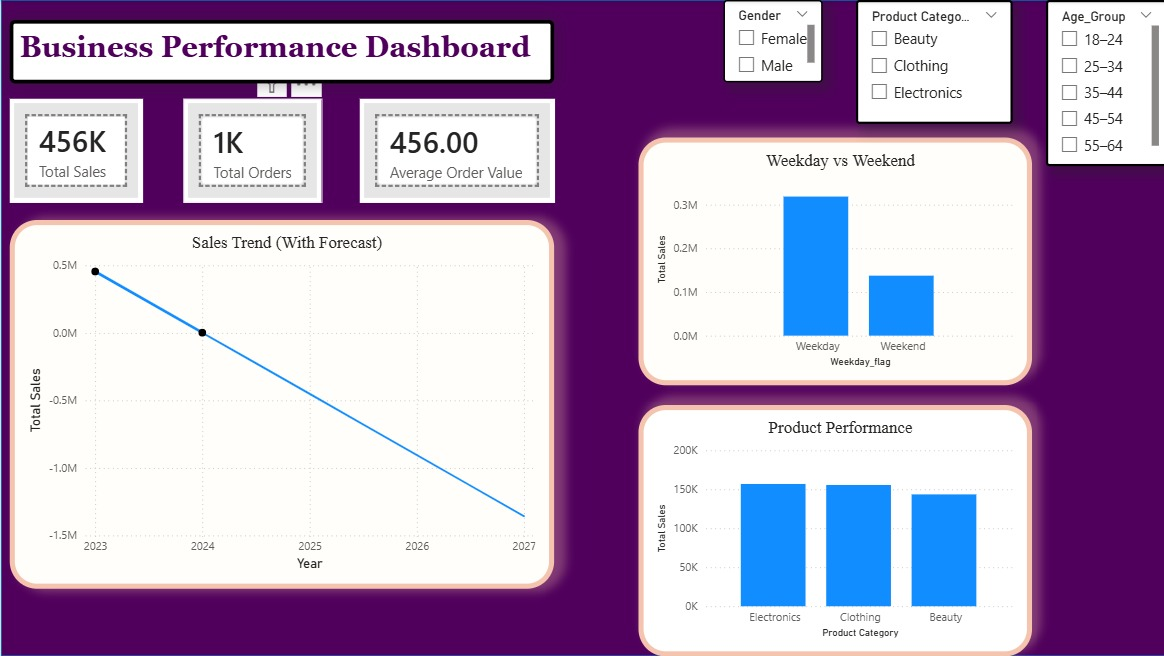

The page's visual inventory and layout, read from the dashboard file:
{"tool":"powerbi","page":{"name":"Business Performance dashboard","canvas":[1280,720],"ordinal":0},"visuals":[{"type":"shape","box":[0,0,1280.3,720.4],"z":0},{"type":"cardVisual","fields":{"Data":["Retail Sales.Total Sales"]},"box":[10.2,108.9,146.4,114],"z":1000},{"type":"cardVisual","fields":{"Data":["Retail Sales.Total Orders"]},"box":[200.9,108.9,151.5,114],"z":2000},{"type":"cardVisual","fields":{"Data":["Retail Sales.Average Order Value"]},"box":[393.2,108.9,214.5,114],"z":3000},{"type":"lineChart","title":"Sales Trend (With Forecast)","fields":{"Y":["Retail Sales.Total Sales"],"Category":["Retail Sales.Date.Variation.Date Hierarchy.Year","Retail Sales.Date.Variation.Date Hierarchy.Quarter","Retail Sales.Date.Variation.Date Hierarchy.Month"]},"box":[10.2,241.7,597.4,405.1],"z":4000},{"type":"clusteredColumnChart","title":"Product Performance","fields":{"Category":["Retail Sales.Product Category"],"Y":["Retail Sales.Total Sales"]},"box":[699.6,444.3,432.3,275.7],"z":5000},{"type":"clusteredColumnChart","title":"Weekday vs Weekend","fields":{"Category":["Retail Sales.Weekday_flag"],"Y":["Retail Sales.Total Sales"]},"box":[699.6,151.5,432.3,272.3],"z":6000},{"type":"slicer","fields":{"Values":["Retail Sales.Age_Group"]},"box":[1146.9,0,133.1,182.5],"z":7000},{"type":"slicer","fields":{"Values":["Retail Sales.Gender"]},"box":[793.2,0,108.9,90.2],"z":8000},{"type":"slicer","fields":{"Values":["Retail Sales.Product Category"]},"box":[938.7,0,171.9,136.2],"z":9000},{"type":"textbox","box":[10.2,22.1,597.4,69.8],"z":10000}]}

Visuals, with their boxes in screenshot pixels (x1, y1, x2, y2), scaled from the page's 1280x720 canvas onto the 1164x656 screenshot:
shape: 0 0 1163 655
cardVisual - Retail Sales.Total Sales: 9 99 142 203
cardVisual - Retail Sales.Total Orders: 183 99 320 203
cardVisual - Retail Sales.Average Order Value: 358 99 553 203
"Sales Trend (With Forecast)" lineChart: 9 220 553 589
"Product Performance" clusteredColumnChart: 636 405 1029 655
"Weekday vs Weekend" clusteredColumnChart: 636 138 1029 386
slicer - Retail Sales.Age_Group: 1043 0 1163 166
slicer - Retail Sales.Gender: 721 0 820 82
slicer - Retail Sales.Product Category: 854 0 1010 124
textbox: 9 20 553 84
